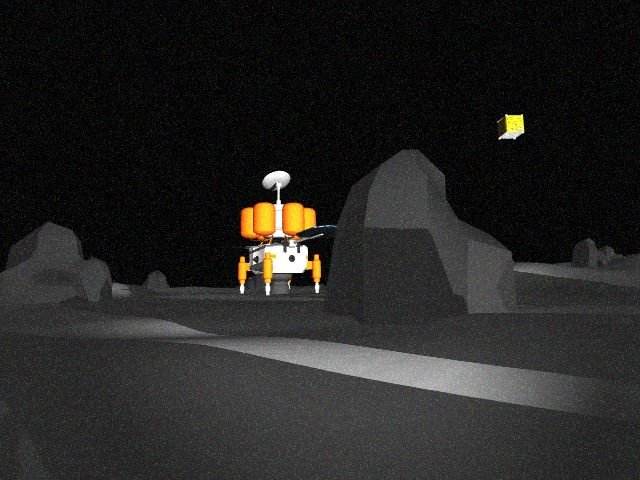homebase: (215, 169, 344, 296)
